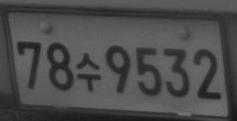2: (192, 48, 221, 99)
3: (163, 47, 190, 97)
5: (135, 46, 163, 96)
7: (16, 41, 42, 88)
8: (45, 41, 74, 91)
9: (104, 44, 131, 93)
수: (76, 52, 102, 92)
